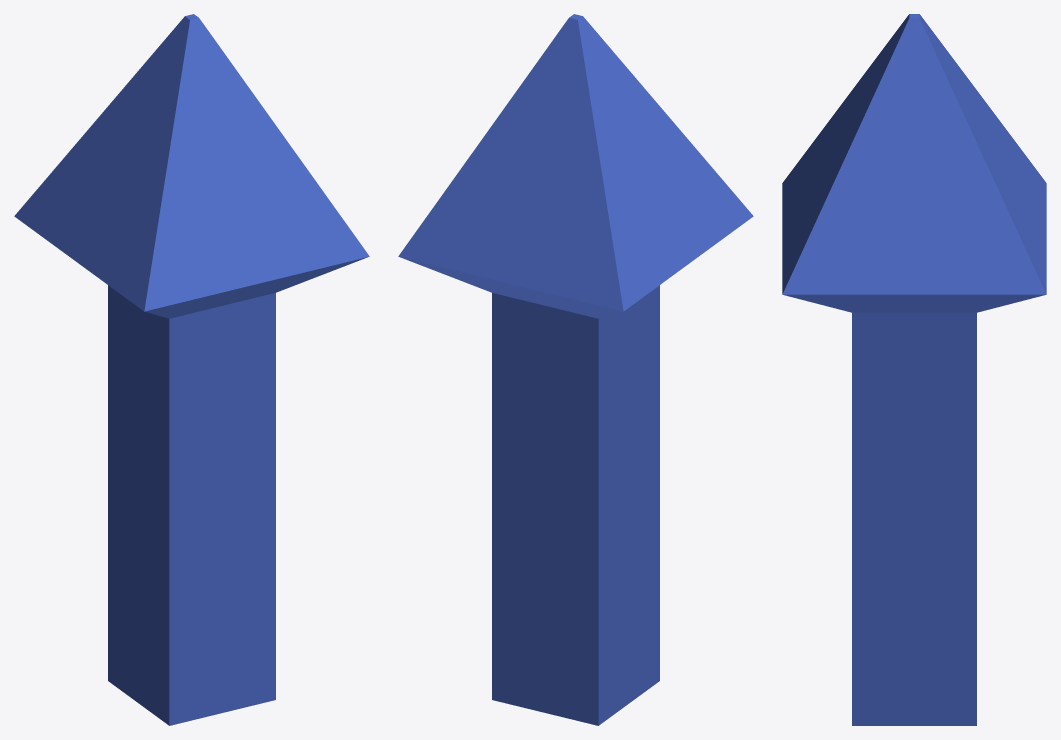
File: Arrow.fbx
3 views of the same model, side by side, from view 1: azimuth 30°, elevation 25°; view 2: azimuth 150°, elevation 25°; view 3: azimuth 270°, elevation 25° (orthographic).
Visible parts, largest first — view 1: Cube; view 2: Cube; view 3: Cube.
Part boxes in pixels (x1,y1,x2,y2): Cube: (14, 14, 369, 725); Cube: (398, 14, 753, 725); Cube: (782, 14, 1046, 725).
Bounding box in the file's own units: 423 × 1209 × 423.
